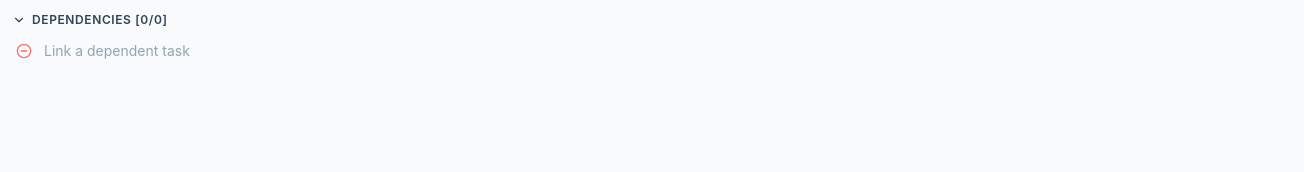
Test: TaskDependencies › linking a task › shows a message when no task matches
Type "zzz" into the dropdown at (668, 51), box [44,39,1292,63]
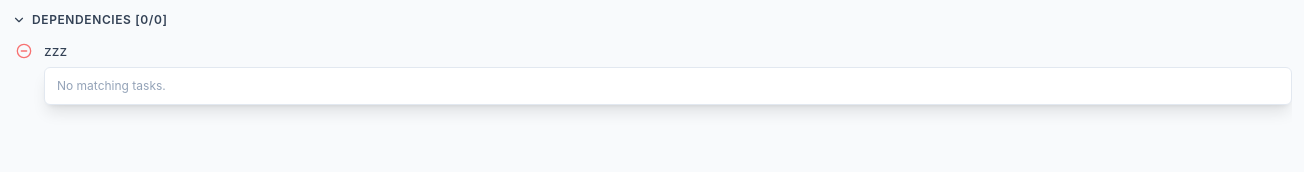
Check: the list item "No matching tasks." is shown, box [57,78,166,93]
